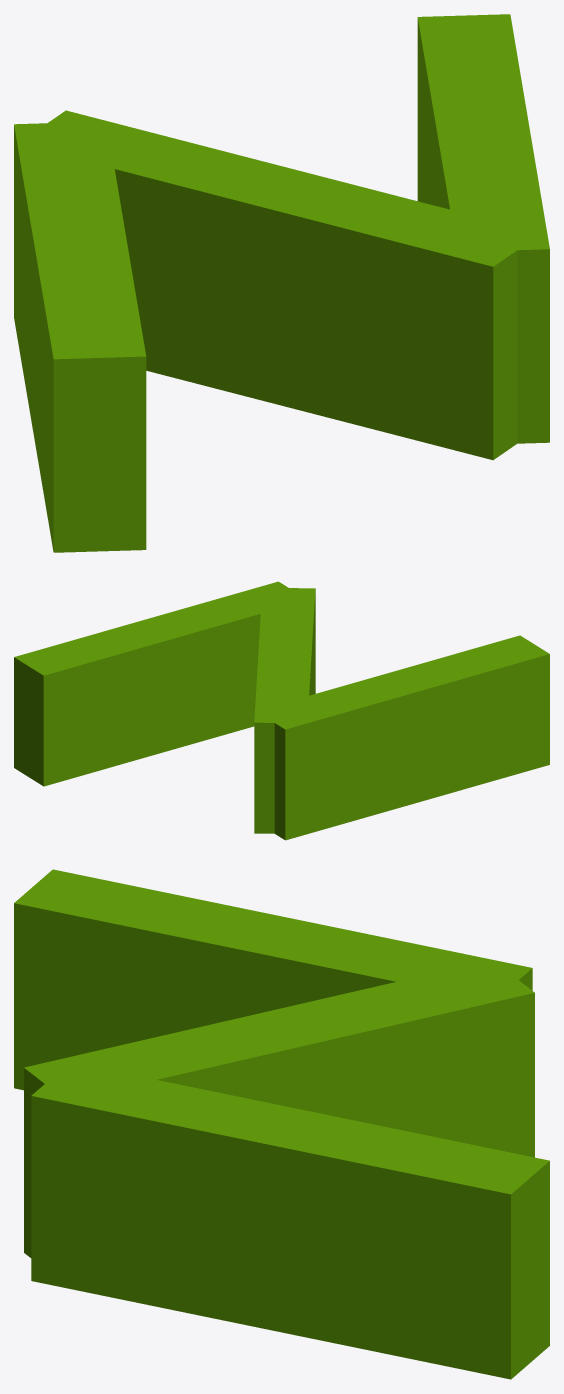
File: dedo_garra_invertido.gltf
3 renders of one model, top to bottom at view 1: azimuth 30°, elevation 25°; view 2: azimuth 150°, elevation 25°; view 3: azimuth 270°, elevation 25°, orthographic. The views are drawn at different scales.
Parts seen in each view (by area): view 1: Cubo.003, Cubo.002, Cubo.001; view 2: Cubo.002, Cubo.001, Cubo.003; view 3: Cubo.001, Cubo.002, Cubo.003.
Boxes of the visible parts, left/top/right/bottom form: Cubo.003: left=47, top=110, right=539, bottom=460; Cubo.002: left=14, top=121, right=146, bottom=552; Cubo.001: left=417, top=14, right=549, bottom=443; Cubo.002: left=256, top=635, right=549, bottom=840; Cubo.001: left=14, top=581, right=307, bottom=786; Cubo.003: left=254, top=588, right=315, bottom=833; Cubo.001: left=31, top=1062, right=549, bottom=1379; Cubo.002: left=14, top=869, right=532, bottom=1090; Cubo.003: left=24, top=980, right=534, bottom=1257.
Size of the model in its own units: 1.73 by 0.4594 by 1.21.
